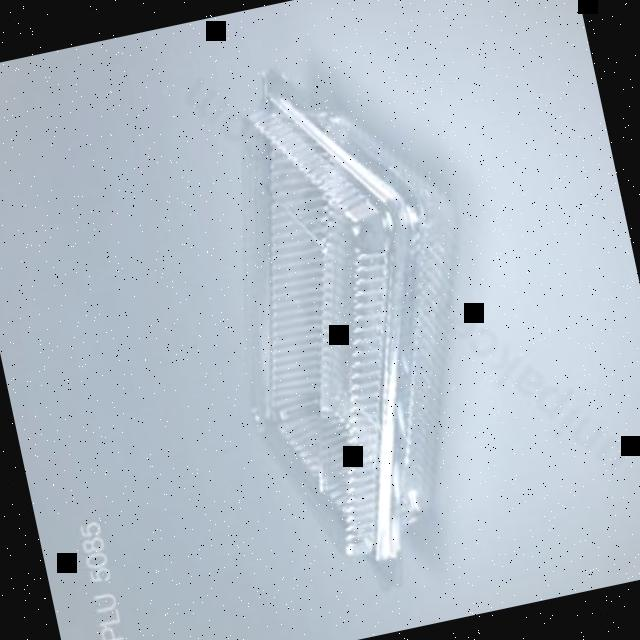plastic_box: (180, 34, 530, 614)
